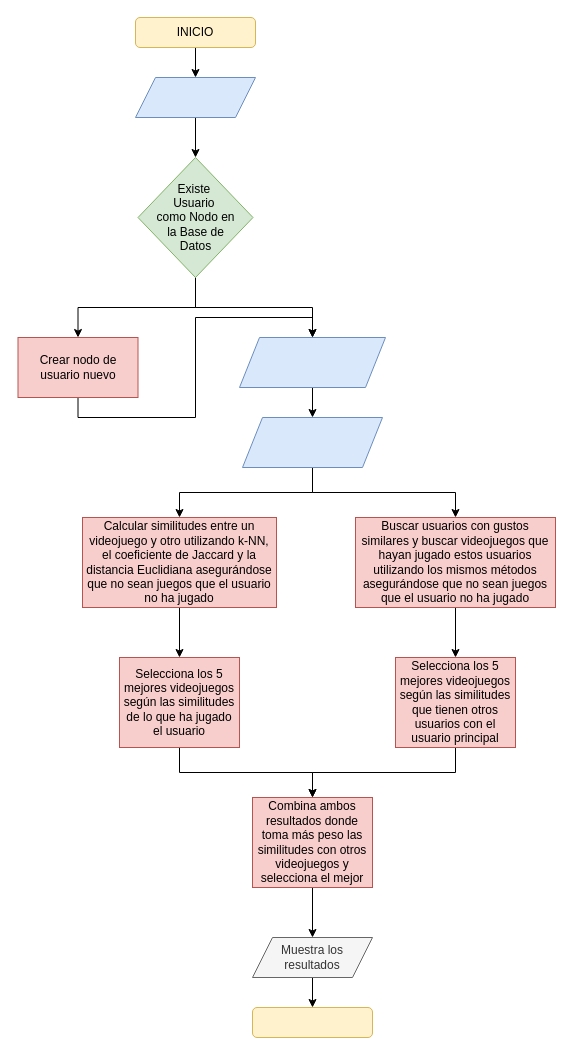
Image size: 573x1055. Some labels were removed from this diagram. The centre of each missing label's shape, as x and y in pixels:
FIN: point (312, 1022)
Horas de juego por semana al usuario: point (312, 442)
Log in User: point (195, 97)
Obtener videojuegos favoritos del usuario.: point (312, 362)
